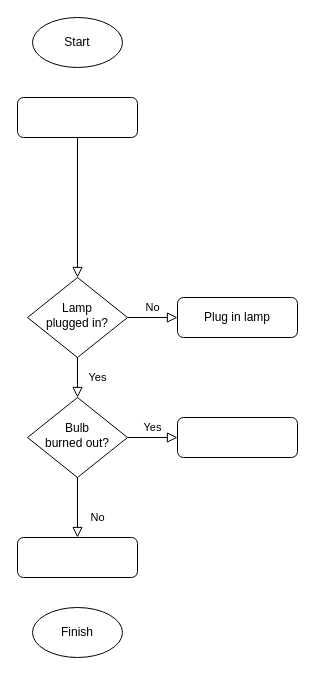
The diagram is 315 pixels wide and 675 high, and some of its shapes have lost their labels. Each missing label, with the centre of its shape:
"Lamp doesn't work" goes at (77,117).
"Repair Lamp" goes at (77,557).
"Replace Bulb" goes at (237,437).
